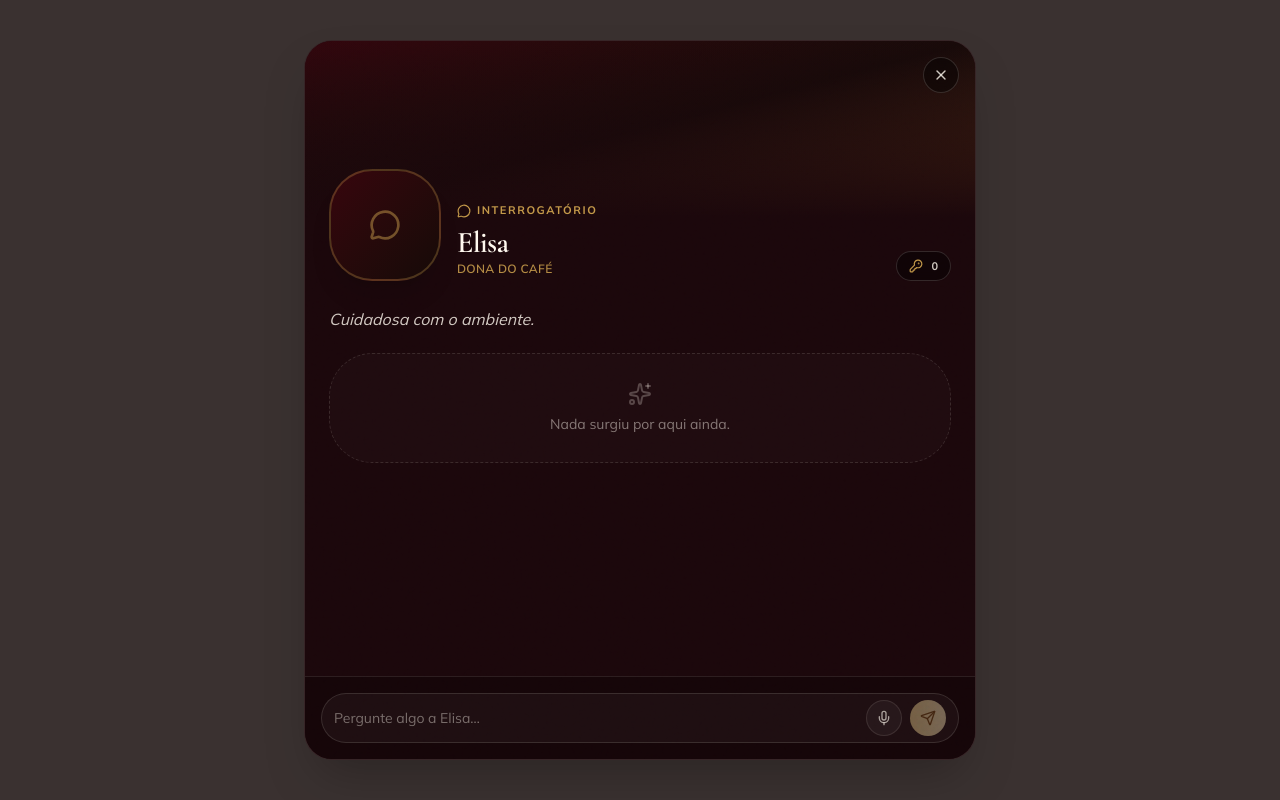
Test: InvestigationPanel › shows a no-clue feedback when no clues are discovered
The image size is (1280, 800).
In the field with placeholder "Pergunte algo a Elisa…": (596, 718) [334,700,858,736], type "O que você viu?"
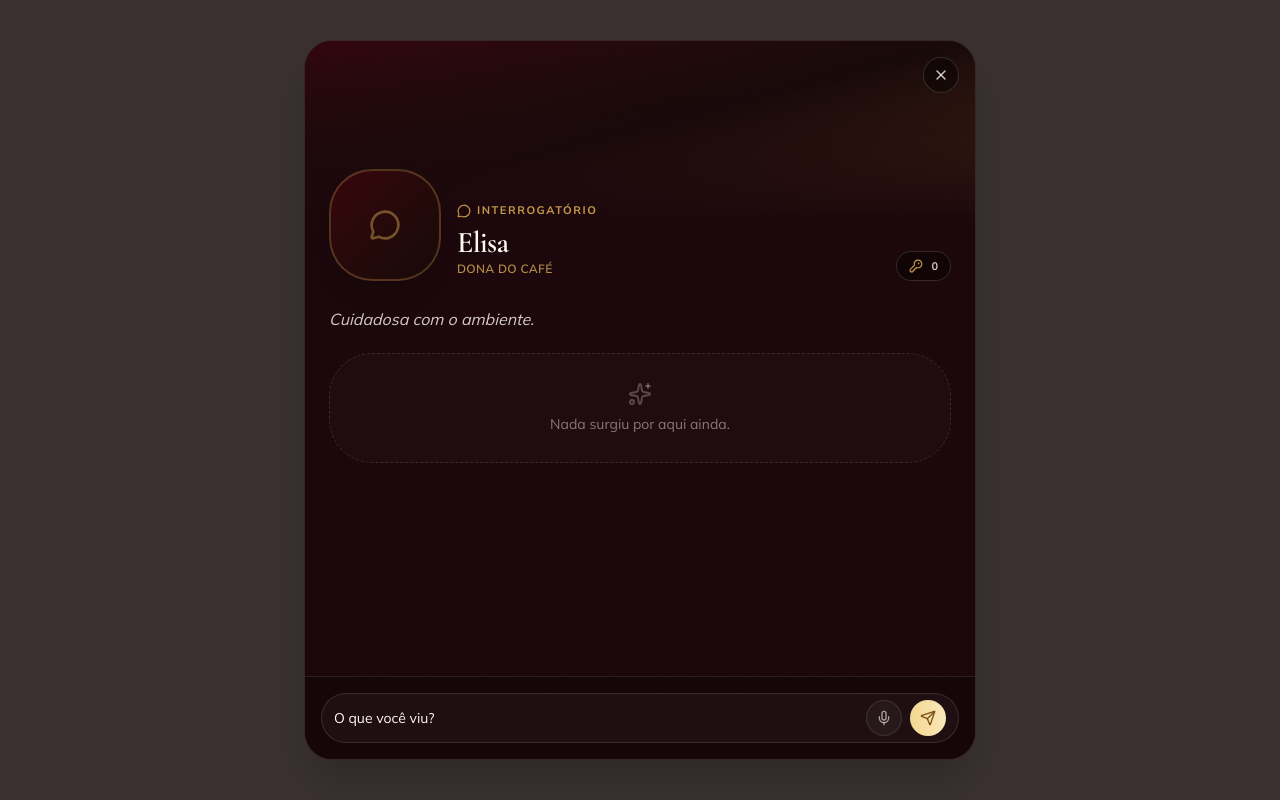
Click the button named "Enviar": (928, 718) [910,700,946,736]
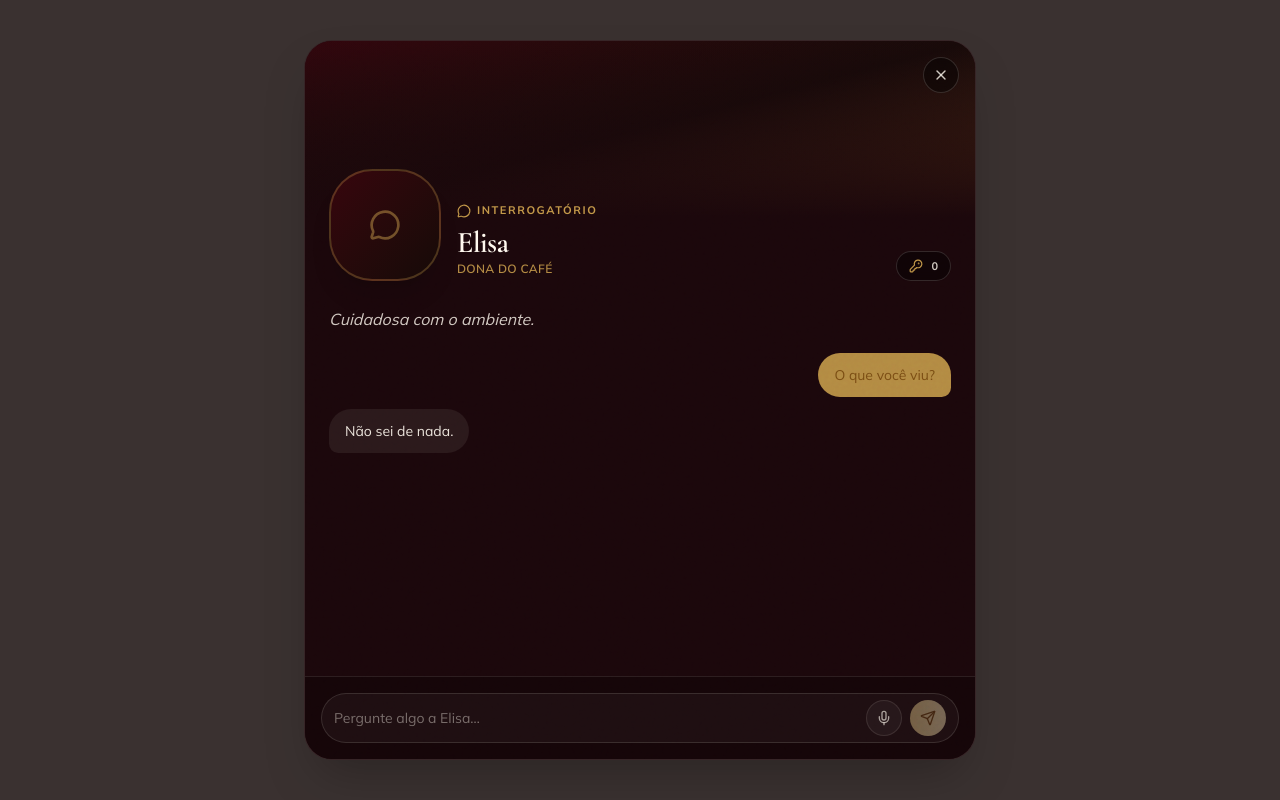
Expected: the text "Não sei de nada." is shown, [329,409,469,453]
